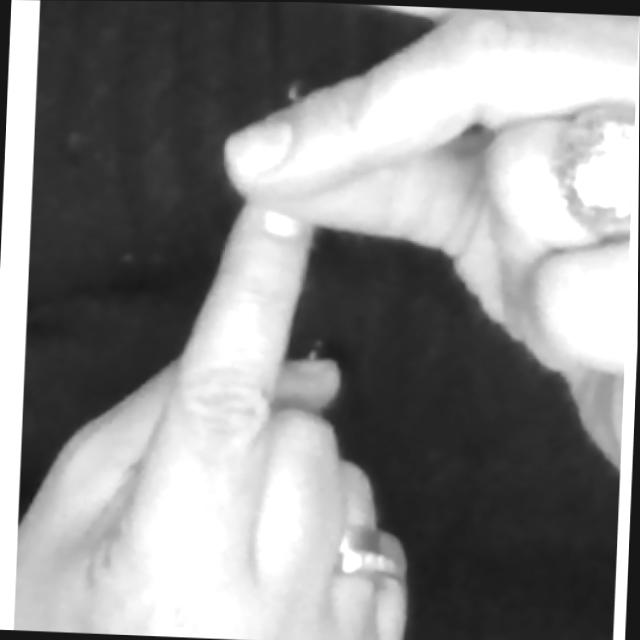I-: (14, 0, 640, 640)
